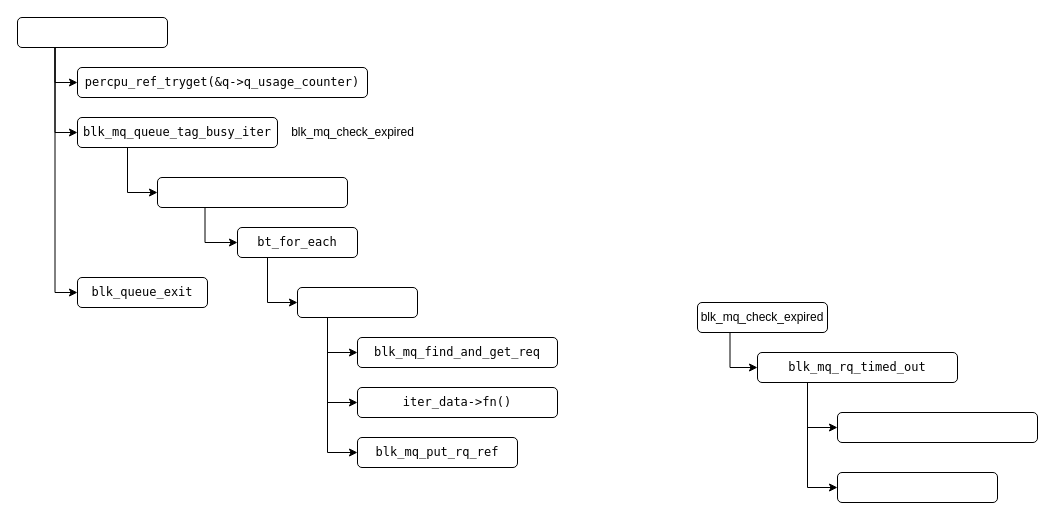
Image size: 1055x520. Some labels were removed from this diagram. The box of each missing label's shape, as (x1, y1, x2, y2) in pixels:
blk_add_timer: (836, 472, 998, 502)
blk_mq_timeout_work: (16, 16, 168, 48)
bt_iter: (296, 286, 418, 318)
queue_for_each_hw_ctx: (156, 176, 348, 208)
req->q->mq_ops->timeout(): (836, 412, 1038, 442)
